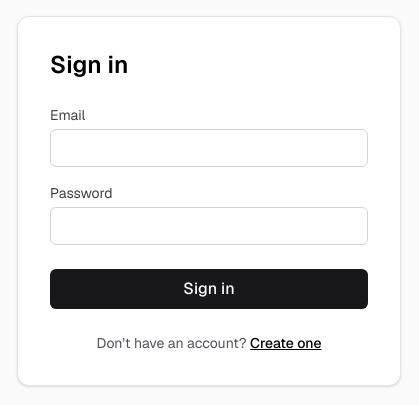
Test: AuthForm in login mode › should disable the button while the request is in flight
The image size is (419, 405).
Type "john@gmail.com" into the field labelled "Email" at (209,148), box [50,129,368,167]
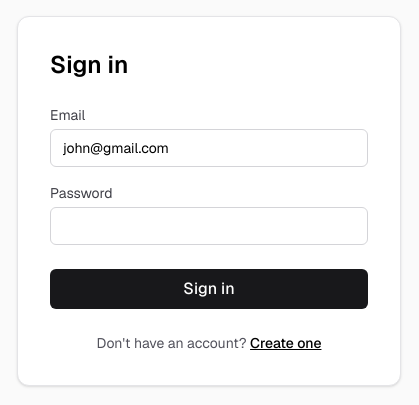
Type "supersecret123" into the password field labelled "Password" at (209,226), box [50,207,368,245]
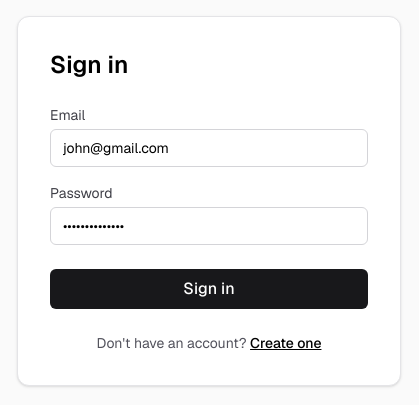
Click the button "Sign in" at (209,289), box [50,269,368,309]
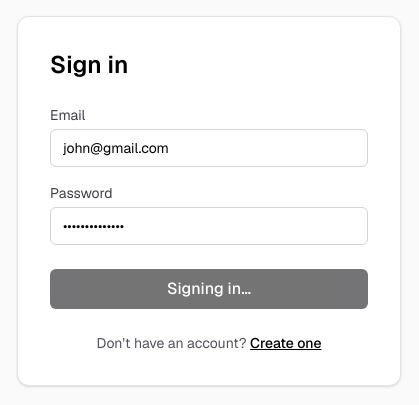
Check: the button "Signing in…" is disabled, box [50,269,368,309]
